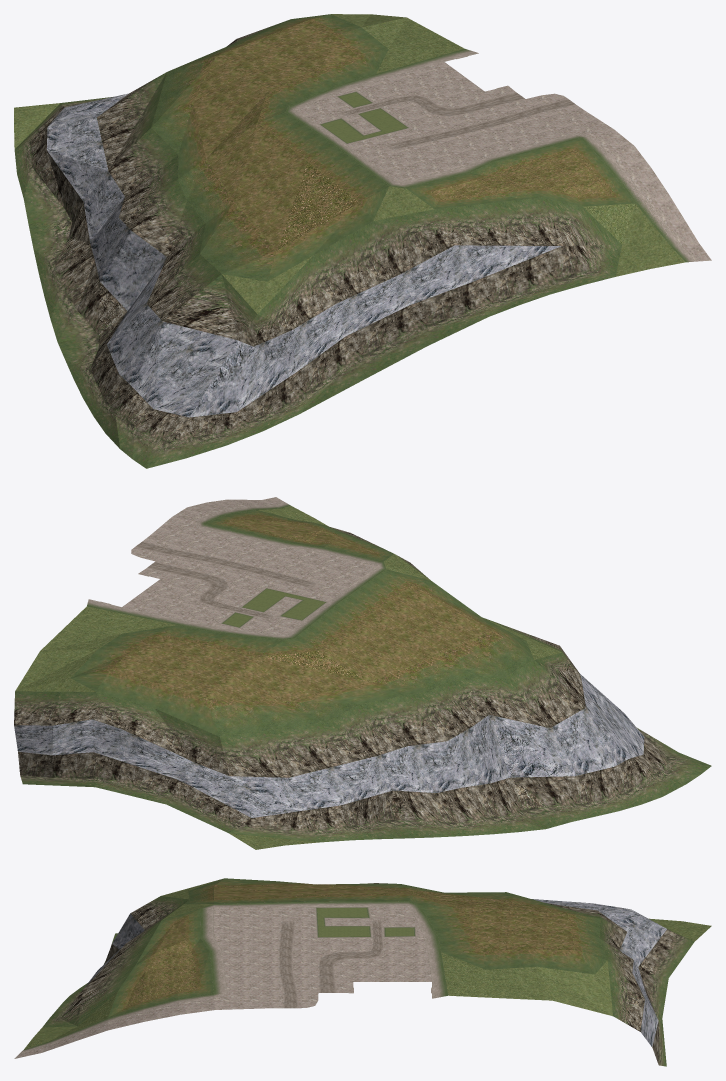
Rendered from cunteground39.obj.
3 views of the same model, one above another, from view 1: azimuth 30°, elevation 25°; view 2: azimuth 150°, elevation 25°; view 3: azimuth 270°, elevation 25° (orthographic). The views are drawn at different scales.
Parts seen in each view (by area): view 1: cuntEground39; view 2: cuntEground39; view 3: cuntEground39.
Part boxes in pixels (x1,y1,x2,y2): cuntEground39: (14, 14, 711, 468); cuntEground39: (14, 497, 711, 849); cuntEground39: (14, 878, 711, 1066).
Size of the model in its own units: 223 by 73.16 by 266.
